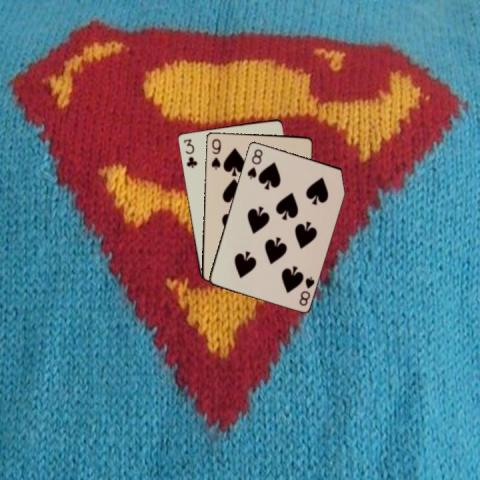3c: (180, 136, 198, 169)
8s: (244, 145, 264, 181), (296, 274, 316, 307)
9s: (208, 136, 222, 171)
